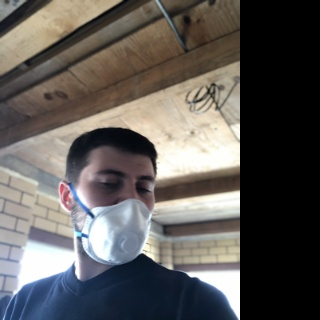with_mask: (78, 163, 156, 263)
